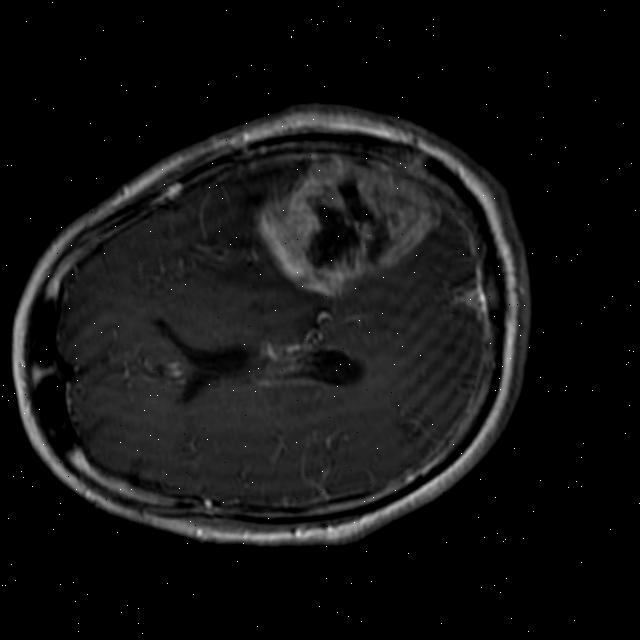Glioma: (237, 130, 462, 313)
